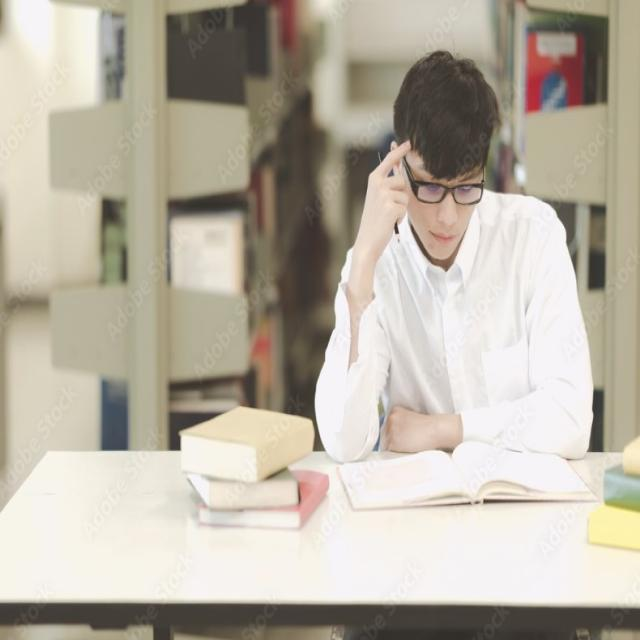studying-person: (165, 39, 608, 571)
